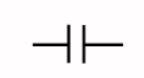Capacitor: (52, 22, 100, 67)
